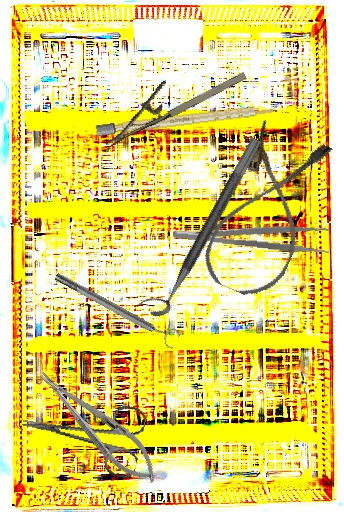Cannula: (196, 118, 337, 307)
Dressing Forceps: (172, 213, 331, 256)
Fixation Ring: (137, 128, 263, 322), (51, 266, 182, 351)
Iris Scissors: (15, 385, 149, 480)
Needle Holder: (28, 359, 169, 493), (92, 48, 249, 149)
Scalpel Handle: (95, 102, 280, 137)
